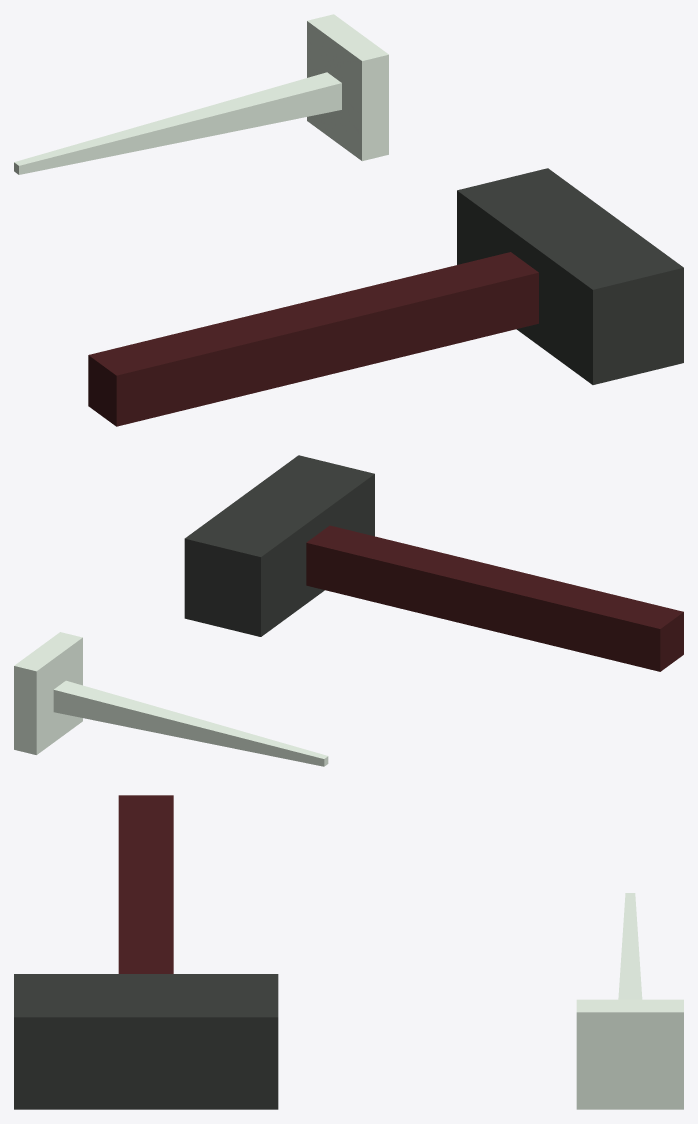
File: Hammer and Nail.fbx
3 renders of one model, top to bottom at view 1: azimuth 30°, elevation 25°; view 2: azimuth 150°, elevation 25°; view 3: azimuth 270°, elevation 25°, orthographic. The views are drawn at different scales.
Parts seen in each view (by area): view 1: Hammer, Nail.019; view 2: Hammer, Nail.019; view 3: Hammer, Nail.019.
Boxes of the visible parts, x1,y1,x2,y2 form: Hammer: (88, 168, 683, 426); Nail.019: (14, 14, 388, 174); Hammer: (184, 455, 683, 671); Nail.019: (14, 632, 328, 766); Hammer: (14, 795, 278, 1109); Nail.019: (576, 893, 683, 1109).
Bounding box in the file's own units: 228 × 42.5 × 265.
